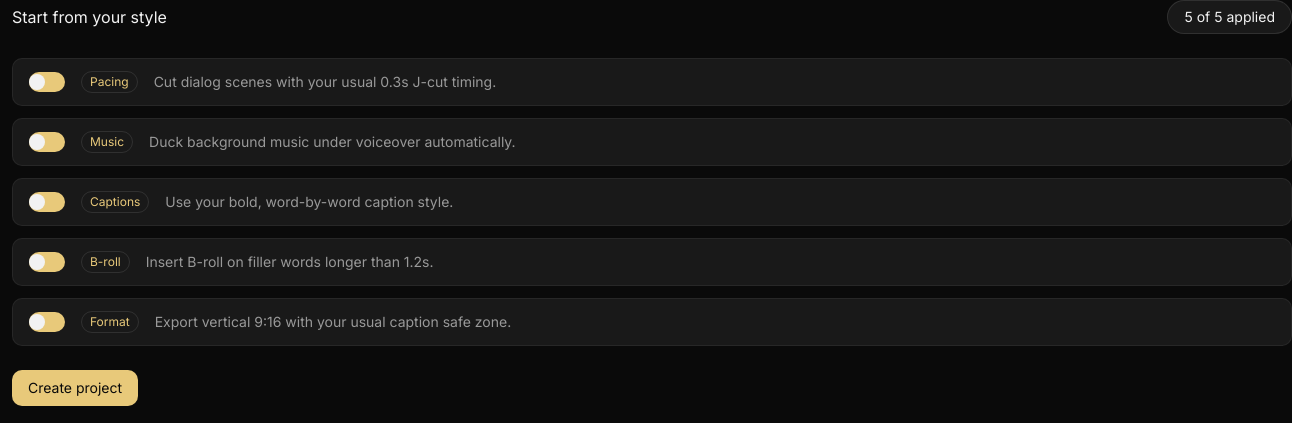
Test: pill reads "5 of 5 applied" by default, and "0 of 5 applied" once all toggles are off
Expected: the text "5 of 5 applied" is shown, [1168,0,1291,34]
Click the switch named "Pacing".
click(47, 82)  # box [29,72,65,92]
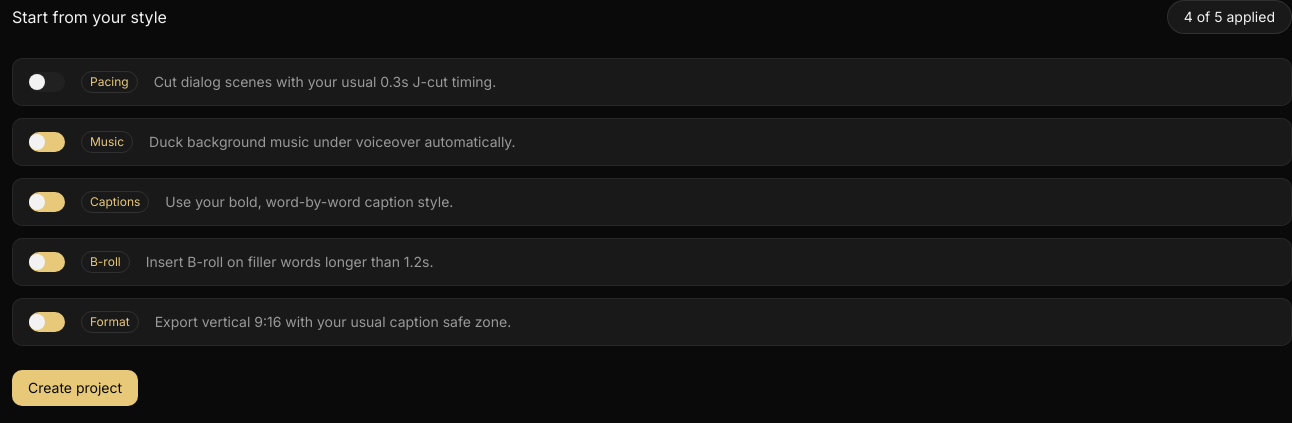
Click the switch named "Music".
click(47, 142)  # box [29,132,65,152]
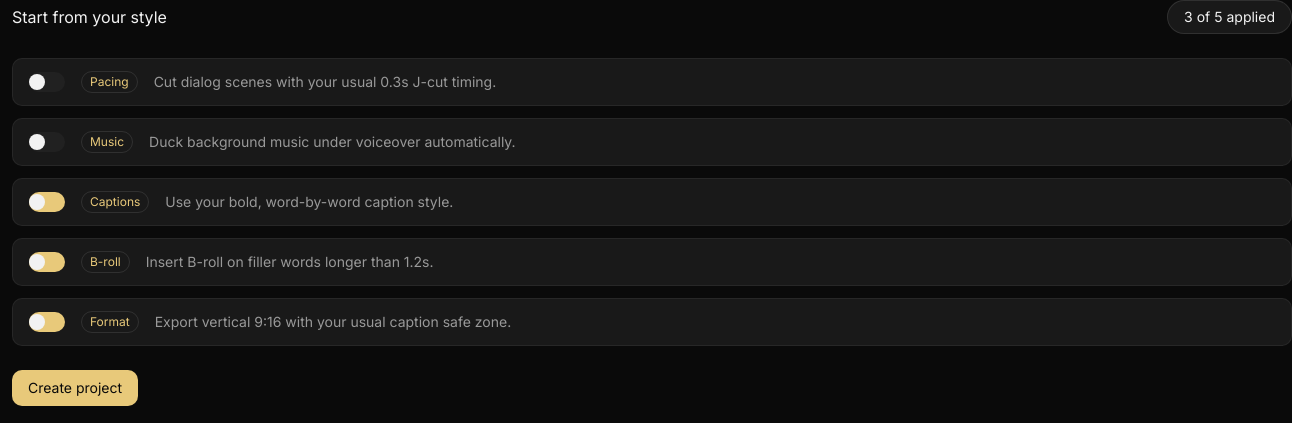
Click the switch named "Captions".
click(47, 202)  # box [29,192,65,212]
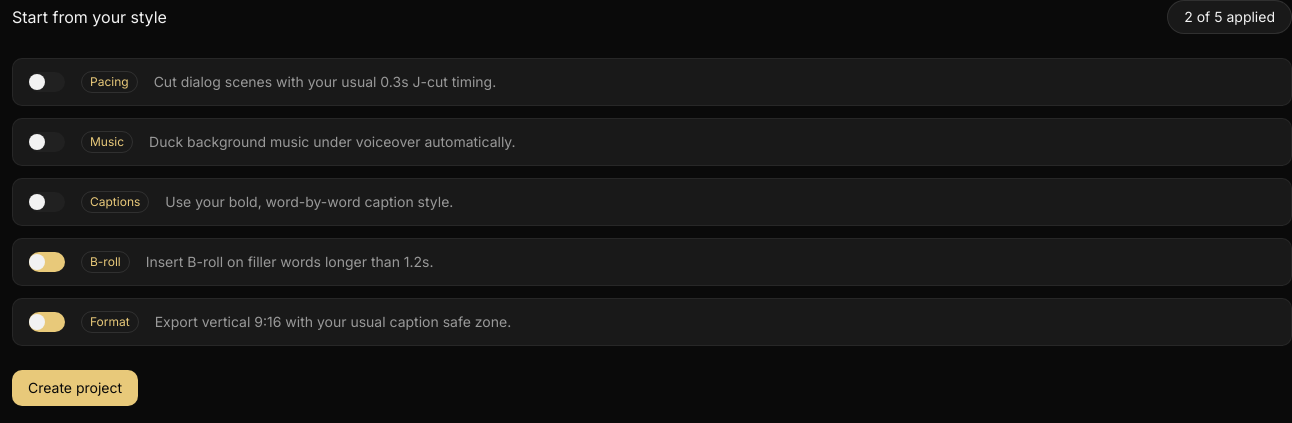
Click the switch named "B-roll".
click(47, 262)  # box [29,252,65,272]
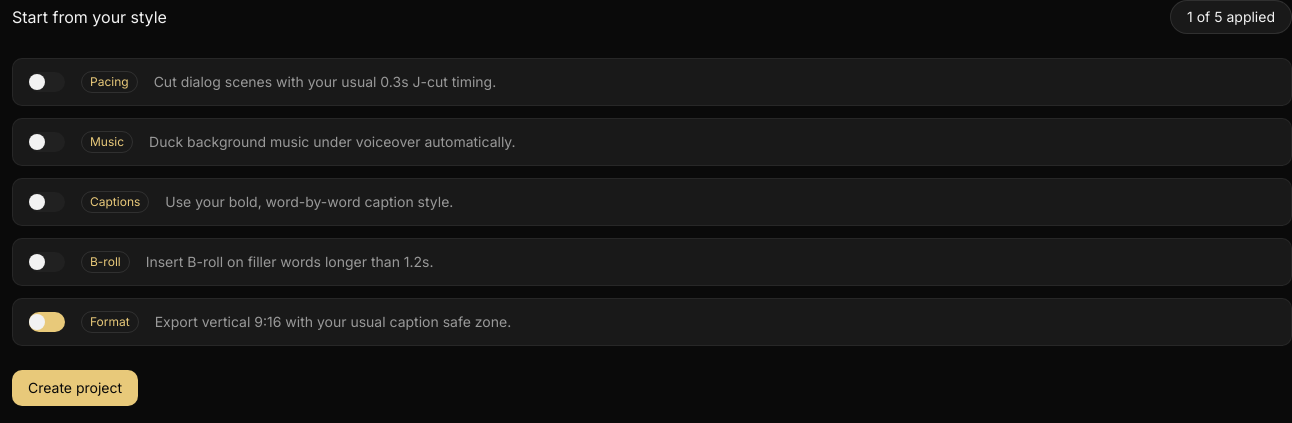
Click the switch named "Format".
click(47, 322)  # box [29,312,65,332]
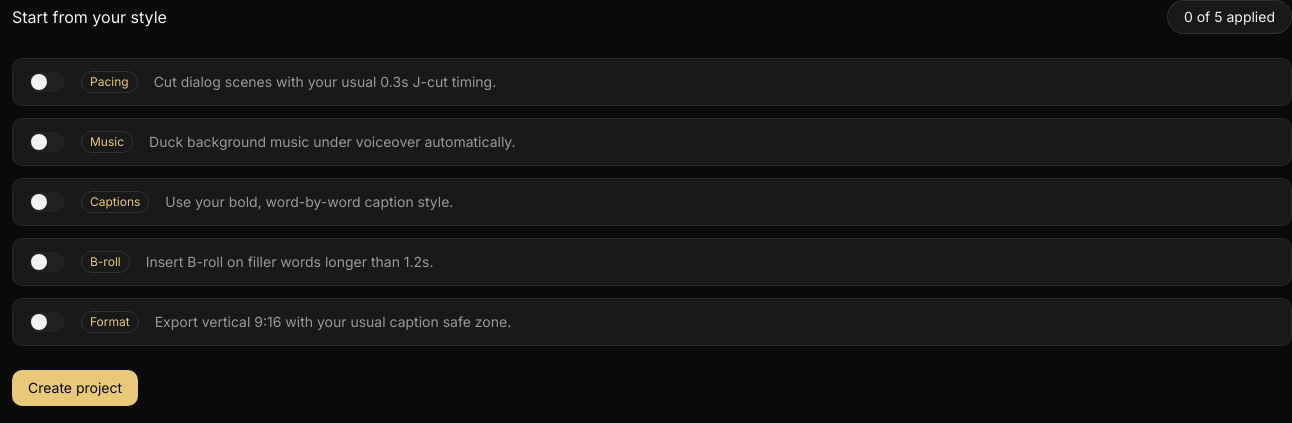
Expected: the text "0 of 5 applied" is shown, [1167,0,1291,34]
